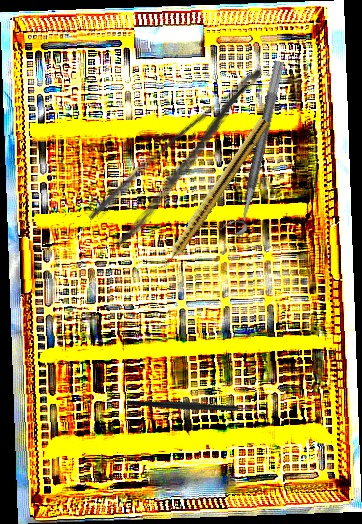Chopper: (126, 354, 261, 453)
Dressing Forceps: (84, 63, 289, 251)
Fixation Ring: (219, 56, 286, 238)
Handpiece: (155, 115, 271, 275)
